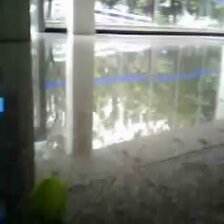tennis: (28, 177, 69, 220)
